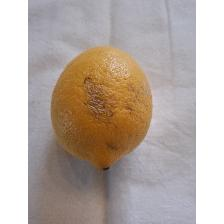Zitrone: (49, 43, 155, 172)
